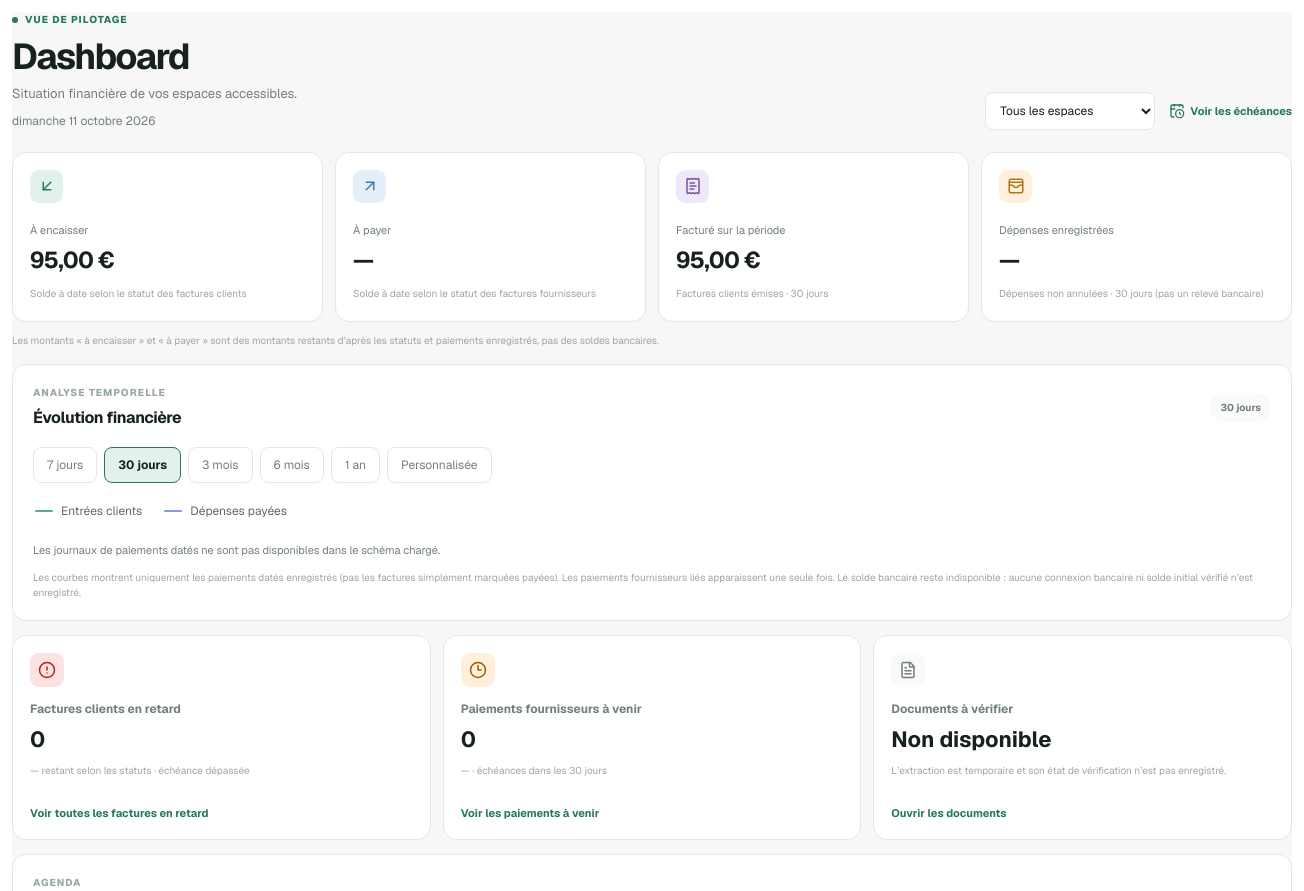
dashboard cockpit › keeps global balances at-date while filtering personal or company workspace
The width and height of the screenshot is (1304, 891).
Expected: the link with aria-label "À encaisser: 95,00 €. Solde à date selon le statut des factu" shows "95,00", [12,152,323,322]
Select "Atelier Nova" in the dropdown named "Filtrer le Dashboard par espace" at (1070, 111), box [985,92,1155,130]
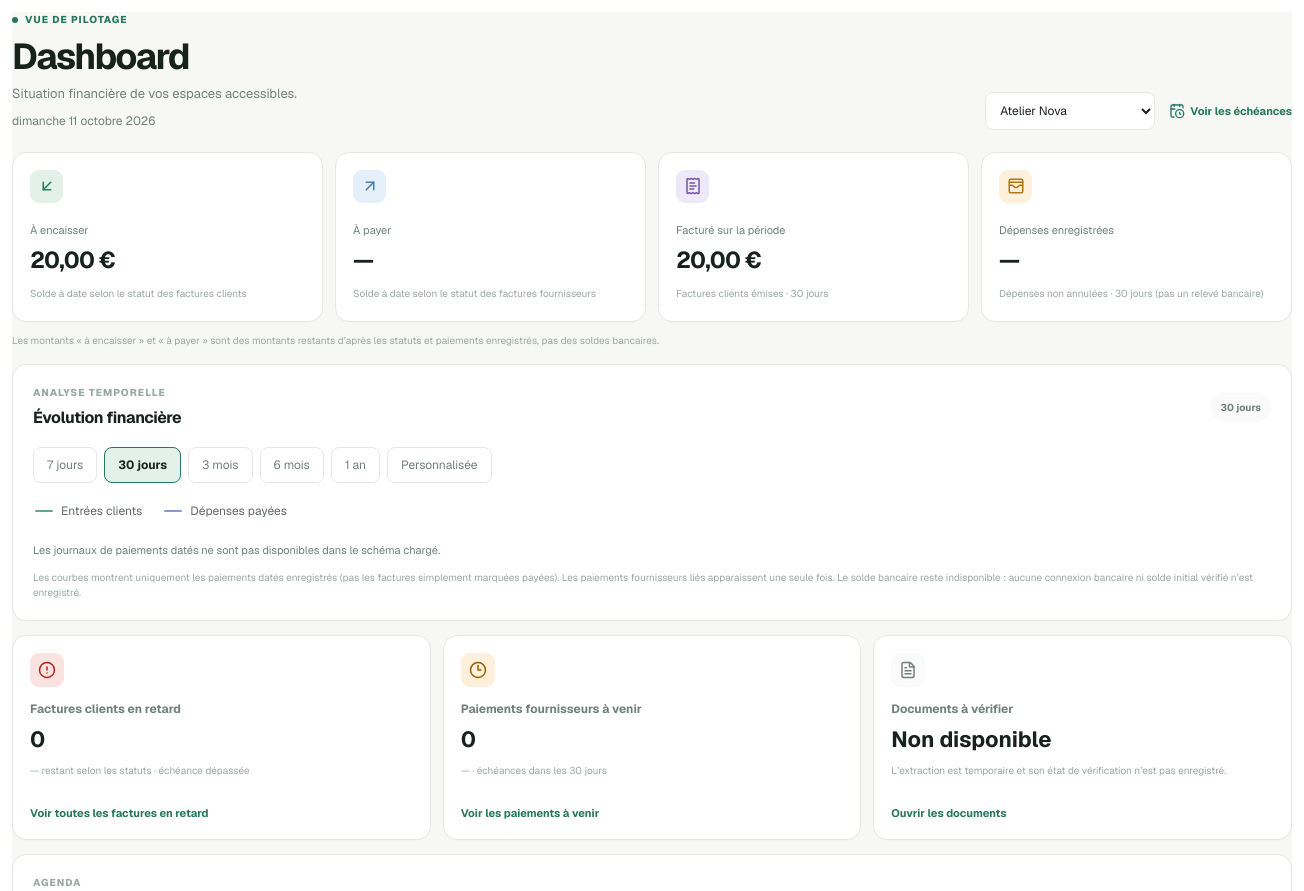
Now the link with aria-label "À encaisser: 20,00 €. Solde à date selon le statut des factu" shows "20,00", box [12,152,323,322]
